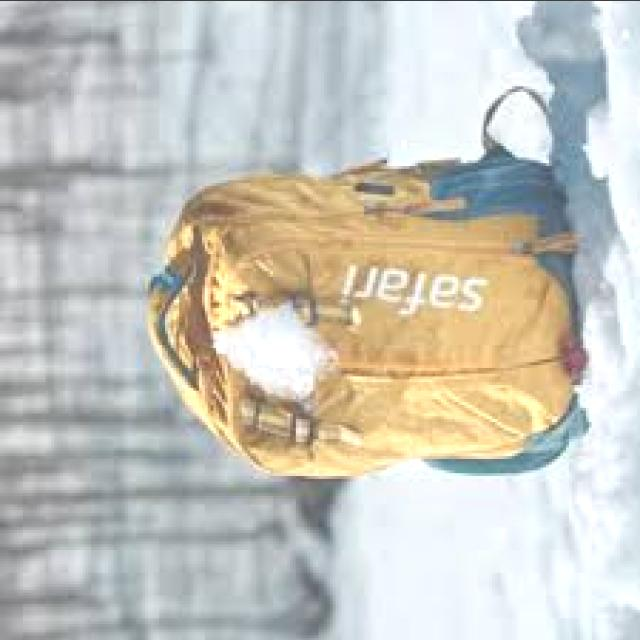backpack: (144, 90, 590, 482)
